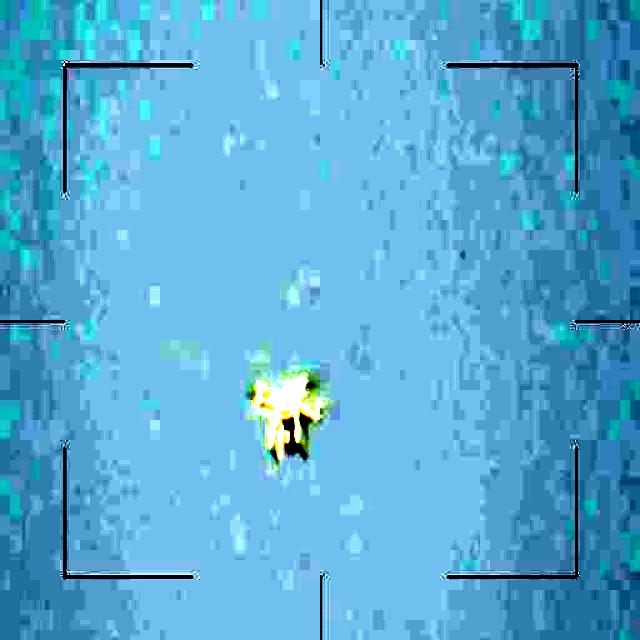bird: (241, 364, 326, 461)
